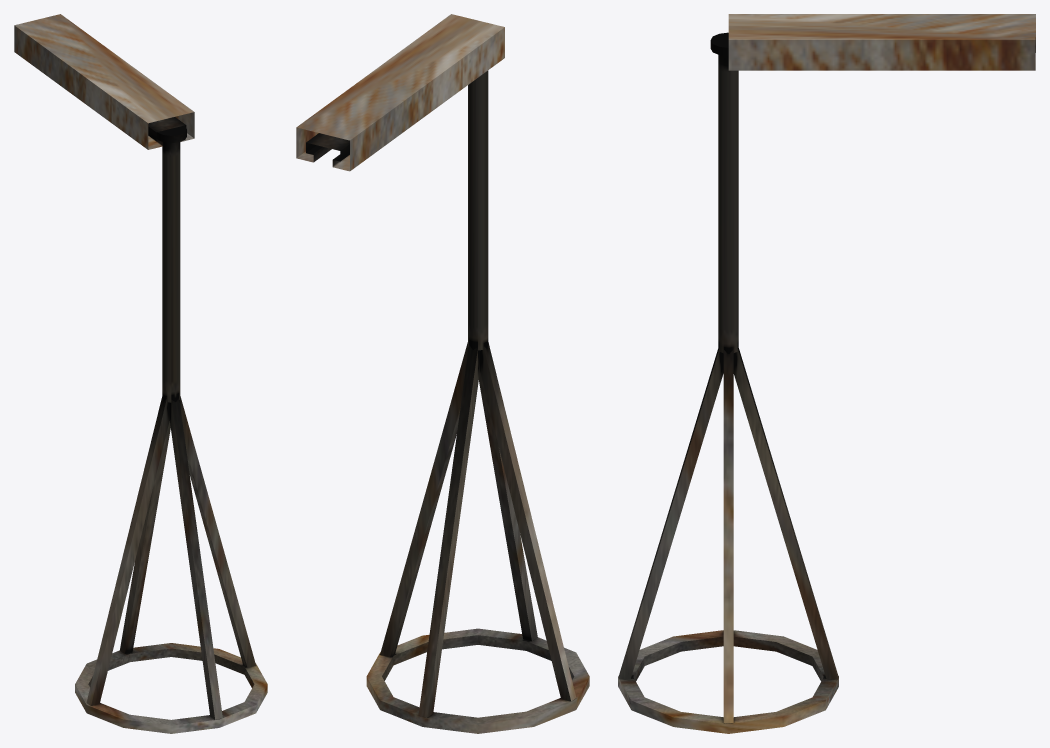
File: LaneLine.FBX
The picture shows the model from 3 angles, left to right: view 1: azimuth 30°, elevation 25°; view 2: azimuth 150°, elevation 25°; view 3: azimuth 270°, elevation 25°; orthographic projection. The views are drawn at different scales.
Visible parts, largest first — view 1: Kassya_mdl, LaneLine_mdl; view 2: Kassya_mdl, LaneLine_mdl; view 3: Kassya_mdl, LaneLine_mdl.
Part boxes in pixels (<box>): Kassya_mdl: <box>75,125,267,733</box>; LaneLine_mdl: <box>14,14,194,149</box>; Kassya_mdl: <box>366,70,589,733</box>; LaneLine_mdl: <box>296,14,504,171</box>; Kassya_mdl: <box>618,32,838,733</box>; LaneLine_mdl: <box>728,14,1035,70</box>.
Bounding box in the file's own units: 73.06 × 237 × 136.
Materials: 2 (2 with a texture image).
